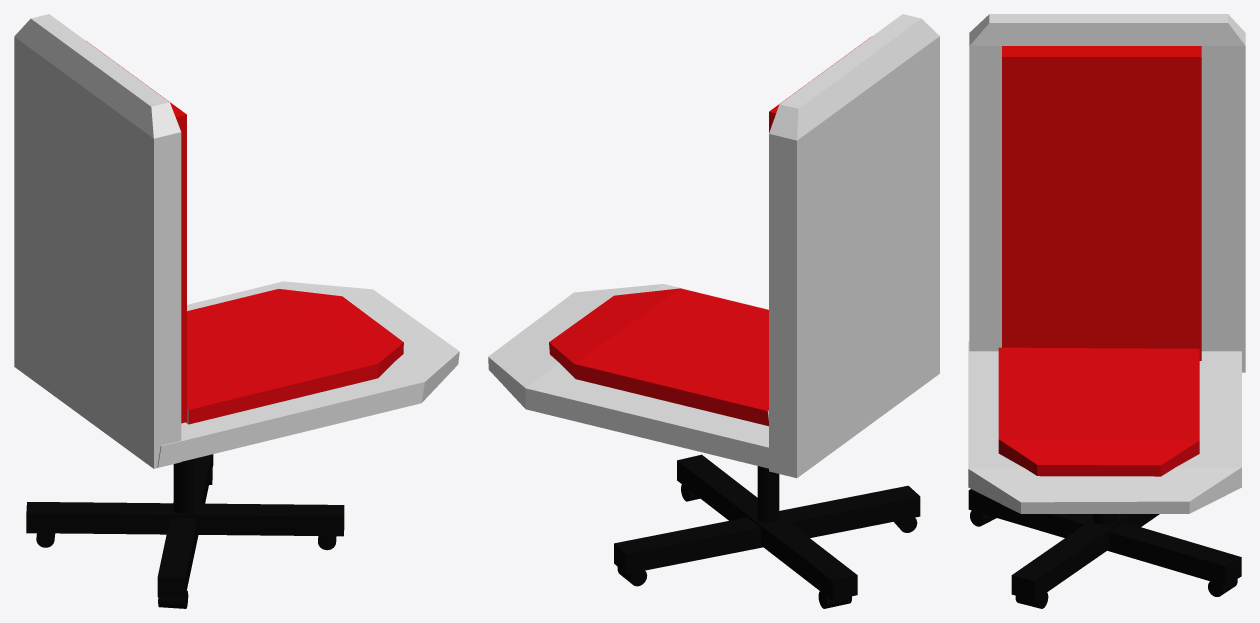
Rendered from Char.fbx.
The picture shows the model from 3 angles, left to right: view 1: azimuth 30°, elevation 25°; view 2: azimuth 150°, elevation 25°; view 3: azimuth 270°, elevation 25°; orthographic projection. The views are drawn at different scales.
Parts seen in each view (by area): view 1: 立方体.002, 立方体, 立方体.003, 立方体.004, 円柱; view 2: 立方体.002, 立方体, 立方体.004, 立方体.003, 円柱; view 3: 立方体.002, 立方体, 立方体.004, 立方体.003.
Boxes of the visible parts, bbox=[...] form: 立方体.002: bbox=[14, 14, 186, 468]; 立方体: bbox=[157, 281, 459, 467]; 立方体.003: bbox=[26, 502, 344, 536]; 立方体.004: bbox=[157, 454, 213, 598]; 円柱: bbox=[173, 458, 194, 514]; 立方体.002: bbox=[769, 14, 939, 478]; 立方体: bbox=[488, 284, 768, 468]; 立方体.004: bbox=[614, 485, 920, 574]; 立方体.003: bbox=[677, 454, 857, 600]; 円柱: bbox=[757, 466, 779, 522]; 立方体.002: bbox=[969, 14, 1245, 372]; 立方体: bbox=[968, 341, 1241, 513]; 立方体.004: bbox=[968, 489, 1241, 585]; 立方体.003: bbox=[1011, 514, 1159, 600].
Size of the model in its own units: 296 by 402 by 203.
